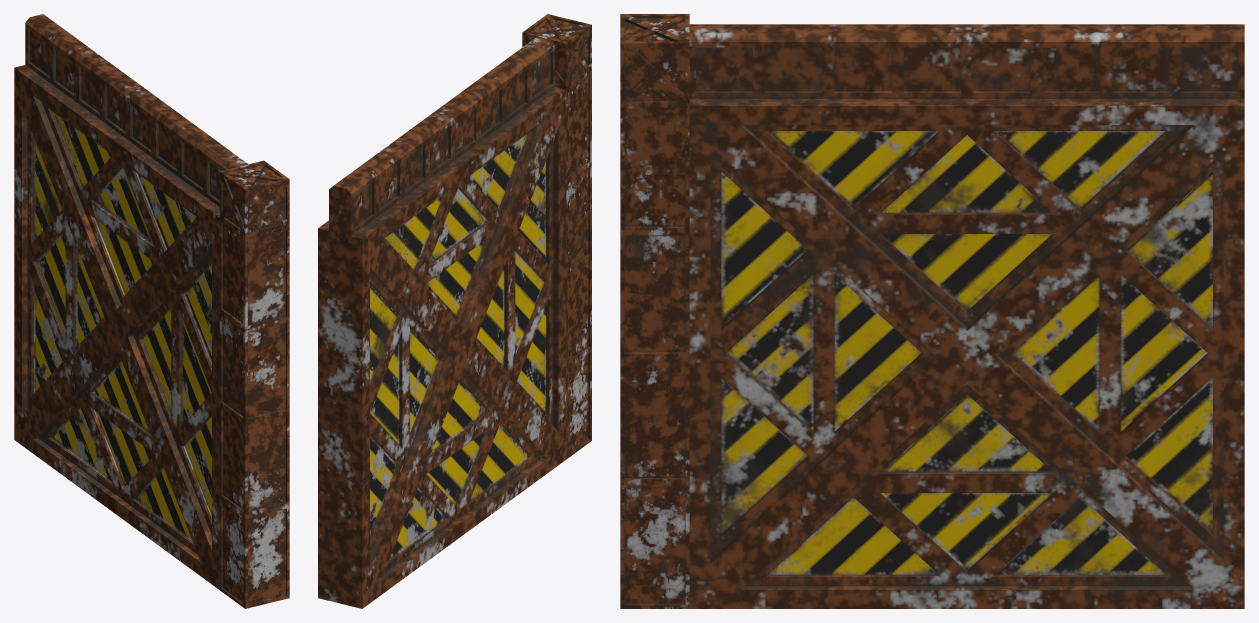
The model's file is maze_parts.glb.
3 views of the same model, side by side, from view 1: azimuth 30°, elevation 25°; view 2: azimuth 150°, elevation 25°; view 3: azimuth 270°, elevation 25° (orthographic). The views are drawn at different scales.
Visible parts, largest first — view 1: maze_wall, maze_corner; view 2: maze_wall, maze_corner; view 3: maze_wall, maze_corner.
Boxes of the visible parts, x1=… form: maze_wall: x1=14, y1=14, x2=247, y2=589; maze_corner: x1=219, y1=160, x2=289, y2=608; maze_wall: x1=318, y1=36, x2=566, y2=608; maze_corner: x1=522, y1=14, x2=591, y2=459; maze_wall: x1=689, y1=24, x2=1244, y2=608; maze_corner: x1=620, y1=14, x2=689, y2=608.
Bounding box in the file's own units: 1 × 9 × 9.
2 materials, 2 textured.
